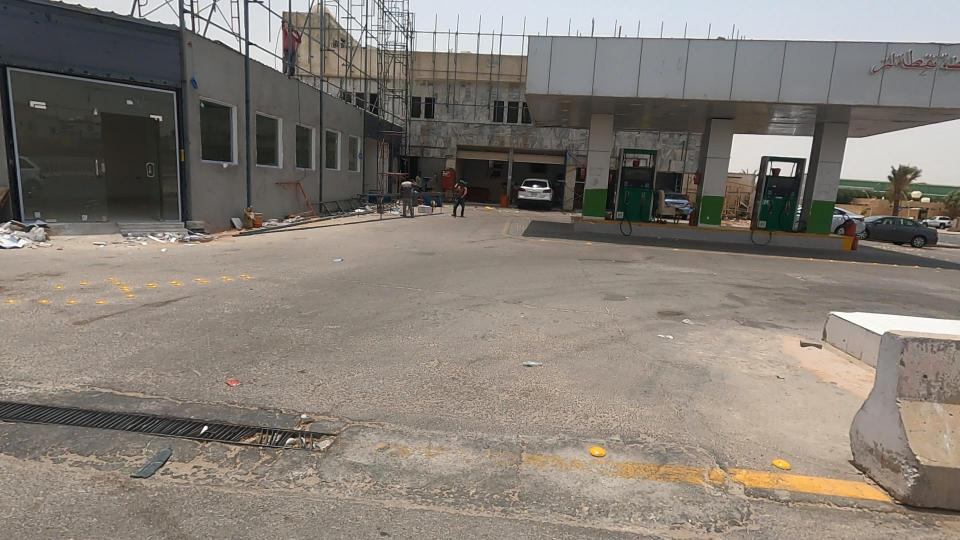GARBAGE: (178, 372, 395, 505), (94, 195, 245, 272), (191, 187, 334, 250), (182, 337, 281, 421), (318, 181, 427, 253), (0, 192, 87, 276), (496, 327, 560, 393), (307, 232, 377, 290), (456, 188, 530, 241)
